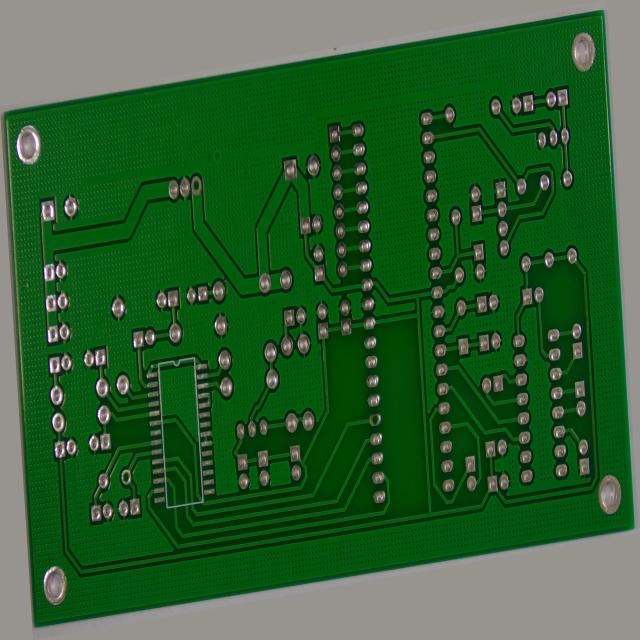missing_hole: (193, 117, 208, 149), (363, 436, 378, 463), (101, 452, 114, 481)
